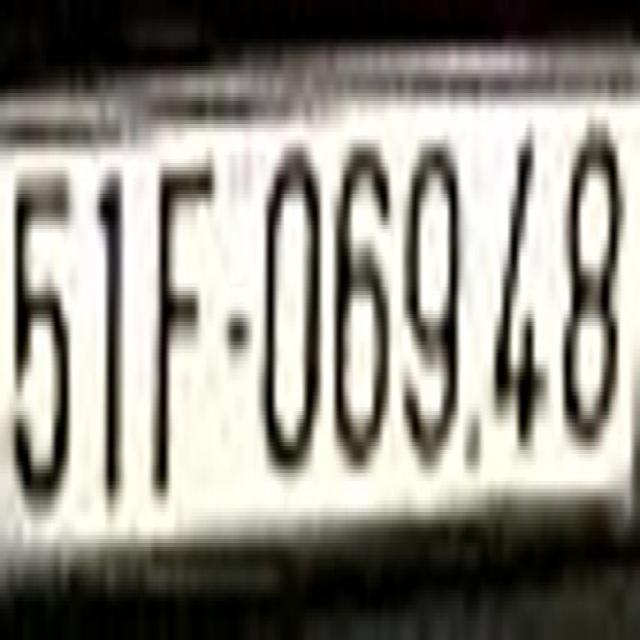0: (258, 112, 322, 485)
1: (98, 163, 126, 500)
4: (490, 116, 544, 454)
5: (11, 140, 77, 512)
6: (340, 128, 390, 469)
8: (560, 105, 624, 454)
9: (400, 113, 462, 473)
F: (154, 151, 218, 508)
